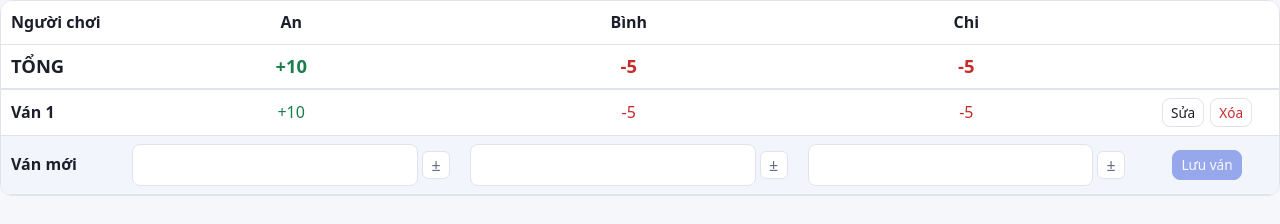
Test: ScoreTable editing a round › leaves edit mode on Cancel without saving
Click the button "Sửa": (1183, 113) [1162,98,1204,127]
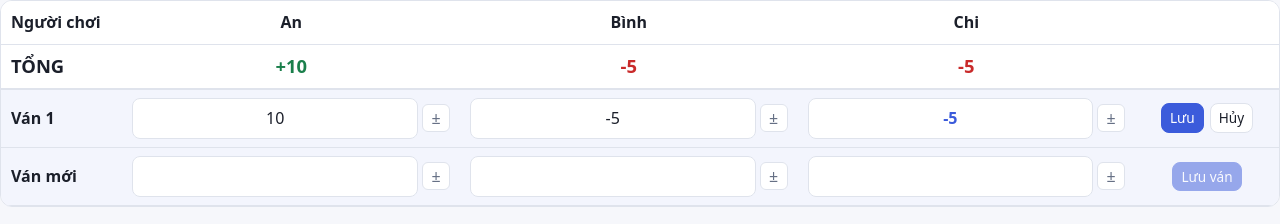
Click the button "Hủy": (1231, 118) [1210,103,1253,133]
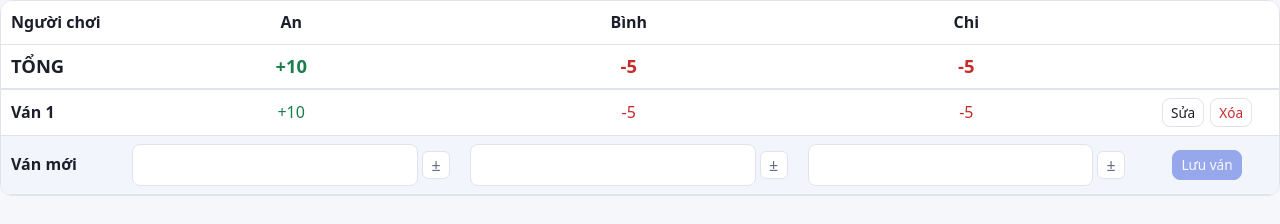
Expected: the button "Sửa" is shown, [1162,98,1204,127]
